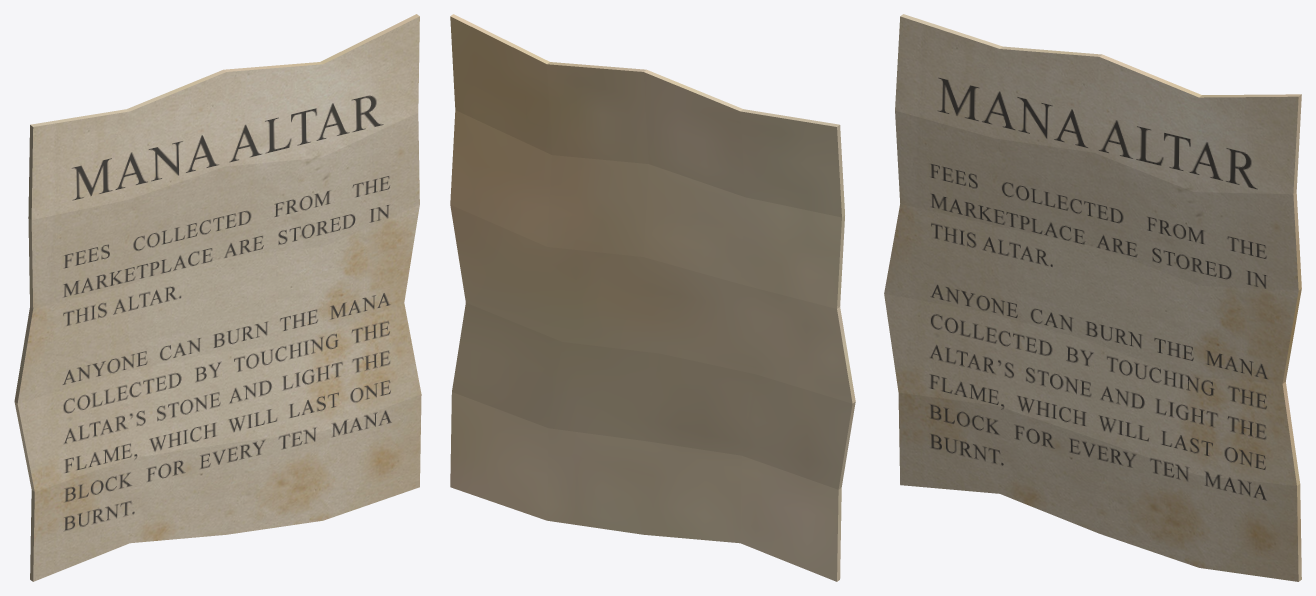
The model's file is Papel.gltf.
3 renders of one model, left to right at view 1: azimuth 30°, elevation 25°; view 2: azimuth 150°, elevation 25°; view 3: azimuth 330°, elevation 25°, orthographic. The views are drawn at different scales.
Visible parts, largest first — view 1: Plane.010; view 2: Plane.010; view 3: Plane.010.
Part boxes in pixels (left/top/right/bottom): Plane.010: left=14, top=14, right=421, bottom=581; Plane.010: left=450, top=14, right=855, bottom=581; Plane.010: left=884, top=14, right=1301, bottom=581.
Size of the model in its own units: 2.89 by 3.3 by 0.0607.
1 material, 1 textured.
